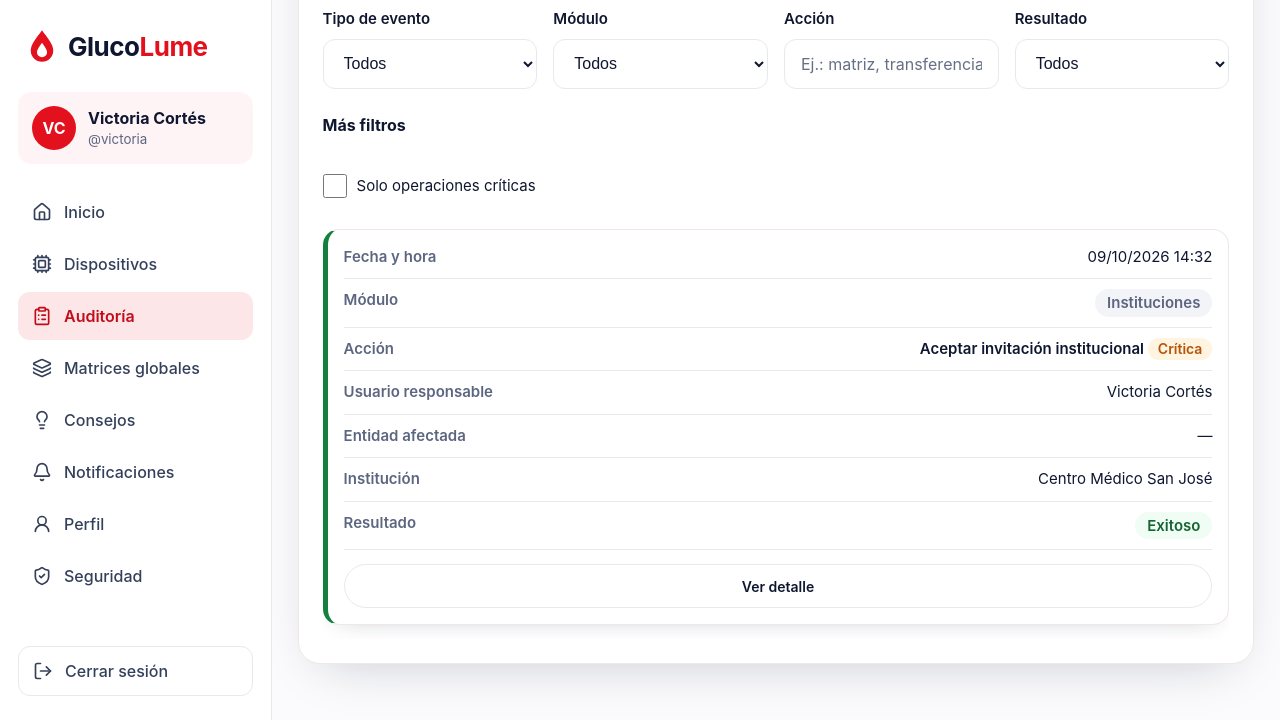
Test case: Auditoría general (administrador del sistema) › «Aceptar invitación» muestra Campo / Antes / Después con etiquetas y distingue «sin valor»
(page scrolled)
What coordinates should you click on to do the following:
click the link "Ver detalle"
I would click on:
 (778, 586)
Its box is [344,564,1212,608].
(page scrolled)
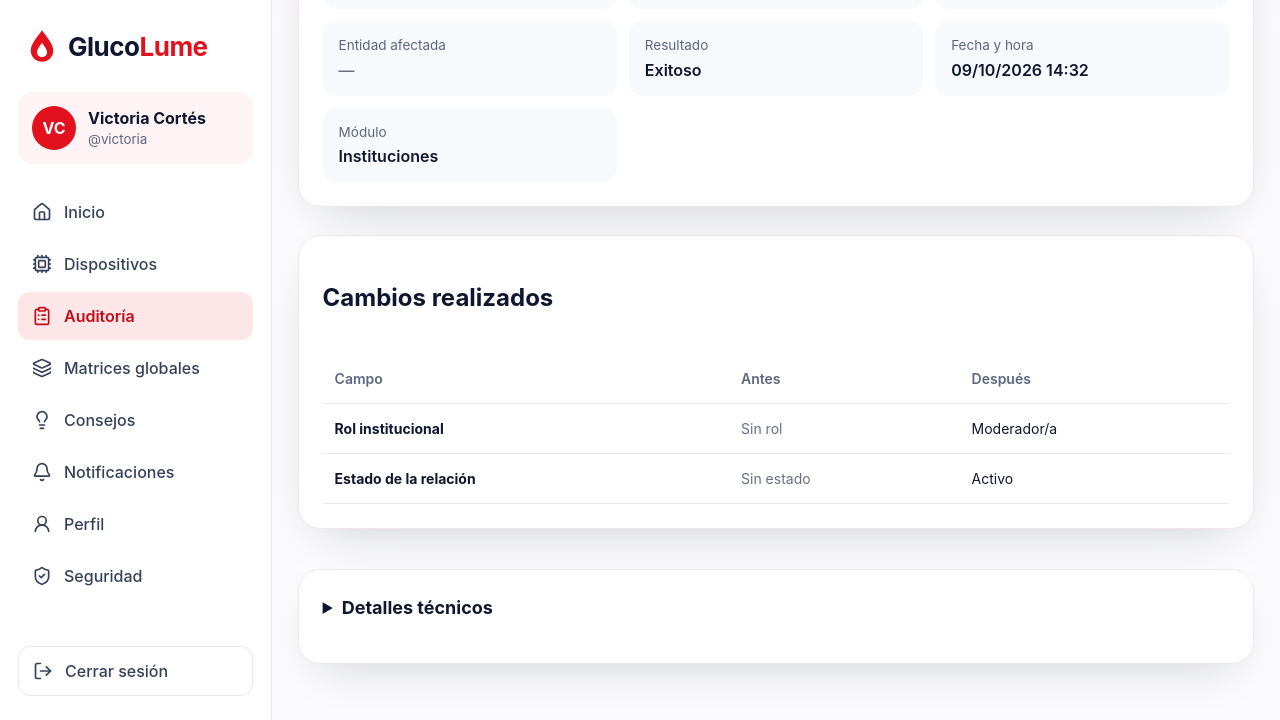
Result: the column headings read "Campo", "Antes", "Después", in this order at [323,354,729,403]; [729,354,960,403]; [960,354,1229,403]
Result: the text "Estado de la relación" shows "Sin estado" at [741,470,811,487]
Result: the text "Estado de la relación" shows "Activo" at [972,470,1013,487]
